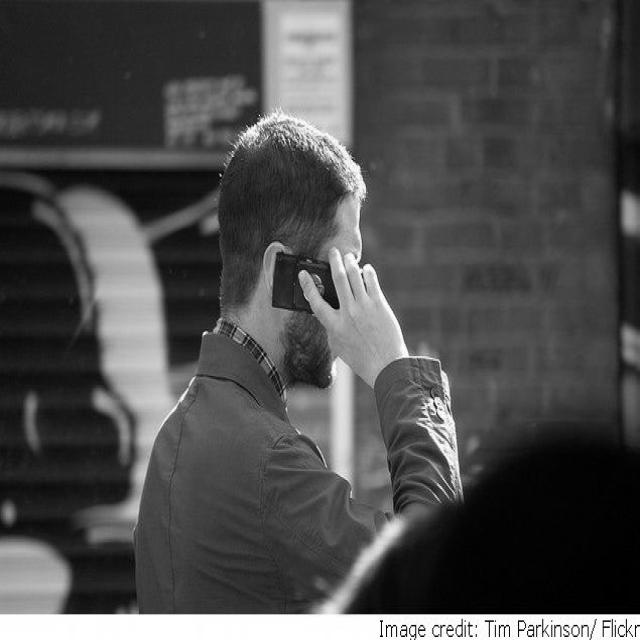phone: (257, 202, 415, 415)
